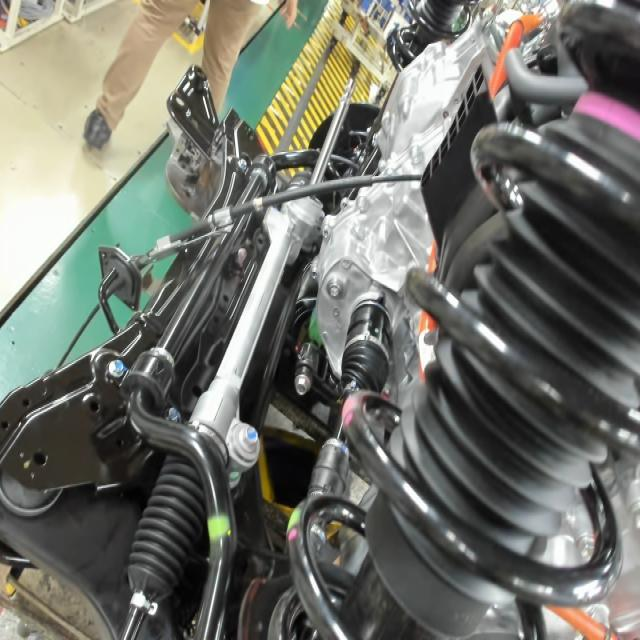Bar Stabilizer-HJ: (206, 509, 235, 543)
Bumper-PK: (571, 81, 640, 143)
